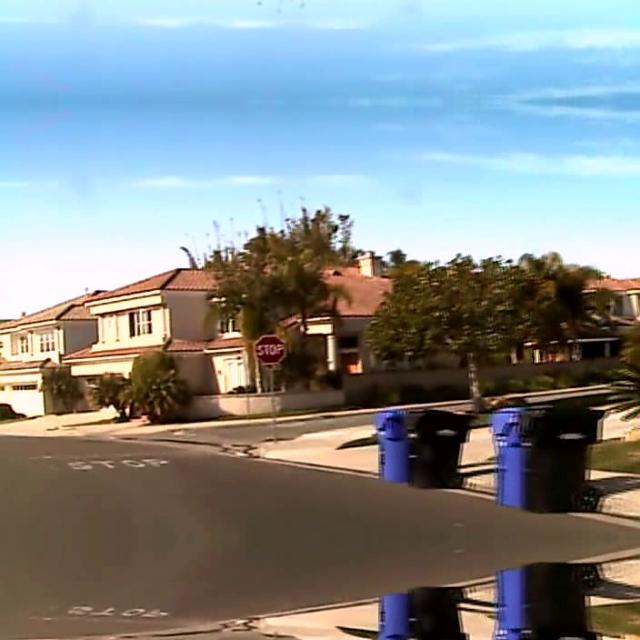stop: (253, 332, 284, 363)
